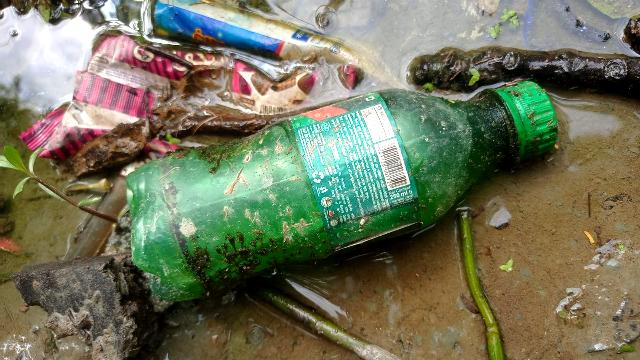bottle: (129, 92, 552, 265)
